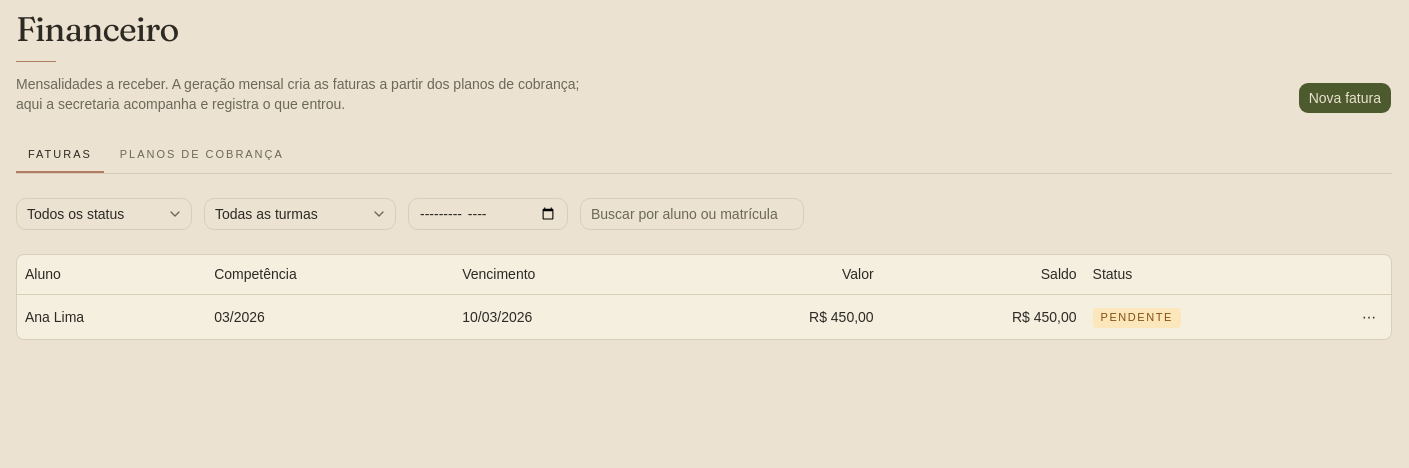
FaturasPage — emitir cobrança › não oferece numa fatura que já tem cobrança no gateway
This screenshot has width=1409, height=468.
Click the button named "Ações da fatura". click: [1369, 317]
box: [1355,303,1383,331]
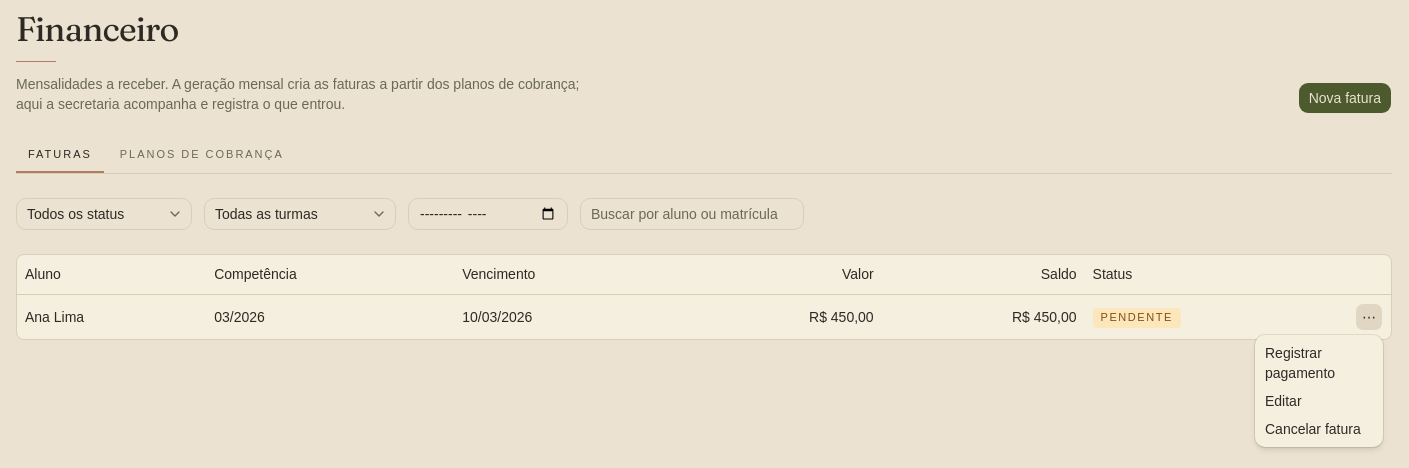
Check: the menu item "Registrar pagamento" is shown, box [1265,345,1335,381]
